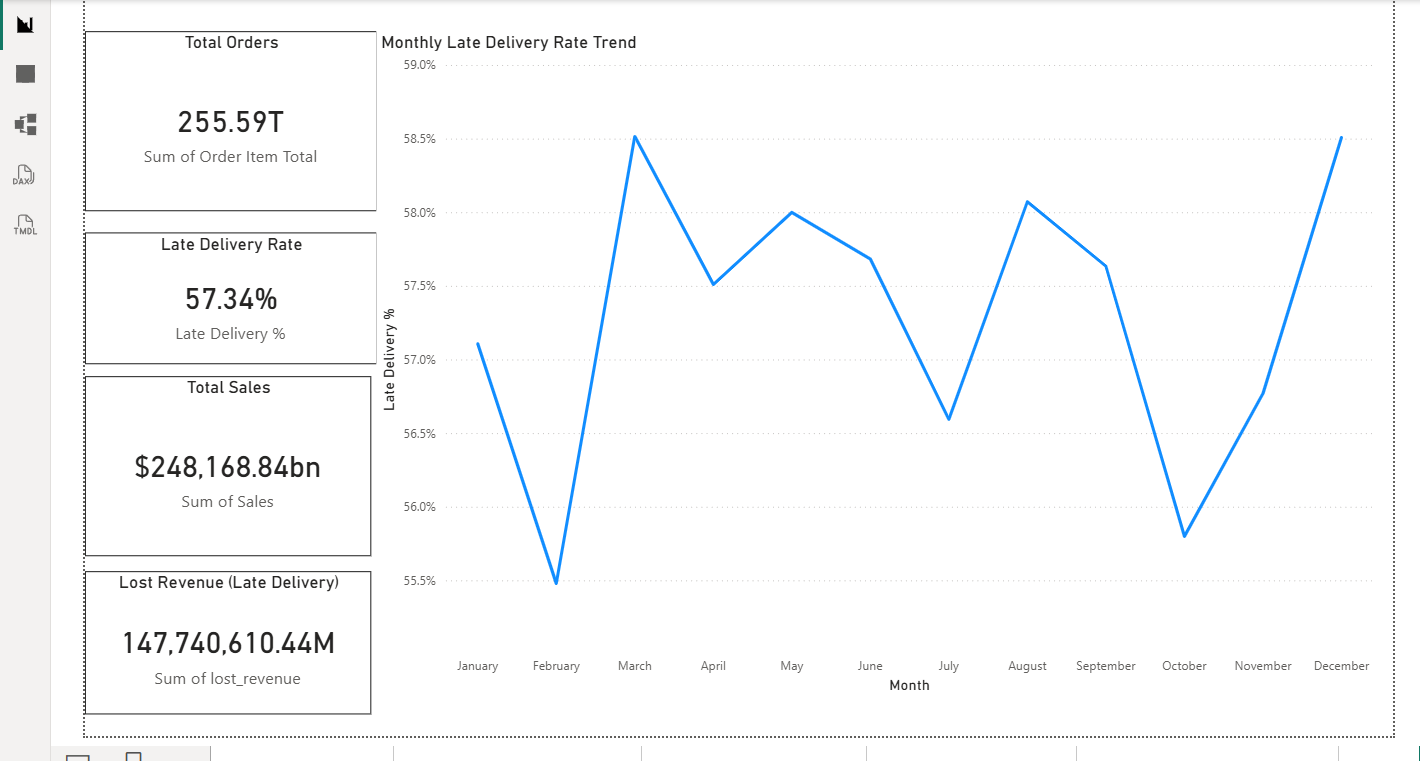

This screenshot's page, from the dashboard's own definition file:
{"tool":"powerbi","page":{"name":"Executive Overview","canvas":[1280,720],"ordinal":0},"visuals":[{"type":"card","title":"Total Orders","fields":{"Values":["Sum(fact_delivery_analysis.Order Item Total)"]},"box":[0,30.2,285.4,175.6],"z":0},{"type":"card","title":"Late Delivery Rate","fields":{"Values":["_Measures.Late Delivery %"]},"box":[0,227.8,285.4,129],"z":1000},{"type":"card","title":"Total Sales","fields":{"Values":["Sum(fact_delivery_analysis.Sales)"]},"box":[0,367.8,279.9,175.6],"z":2000},{"type":"card","title":"Lost Revenue (Late Delivery)","fields":{"Values":["Sum(fact_delivery_analysis.lost_revenue)"]},"box":[0,558.5,279.9,140],"z":3000},{"type":"lineChart","title":"Monthly Late Delivery Rate Trend","fields":{"Category":["fact_delivery_analysis.order_date.Variation.Date Hierarchy.Month"],"Y":["_Measures.Late Delivery %"]},"box":[285.4,30.2,981.1,653.2],"z":4000}]}

Visuals, with their boxes on the page's 1280x720 design canvas (x1, y1, x2, y2). These are canvas units, not pixel positions in the 1420x761 screenshot, which may show the page scaled, cropped or inside an application window:
"Total Orders" card: box=[0, 30, 285, 206]
"Late Delivery Rate" card: box=[0, 228, 285, 357]
"Total Sales" card: box=[0, 368, 280, 543]
"Lost Revenue (Late Delivery)" card: box=[0, 558, 280, 698]
"Monthly Late Delivery Rate Trend" lineChart: box=[285, 30, 1266, 683]
